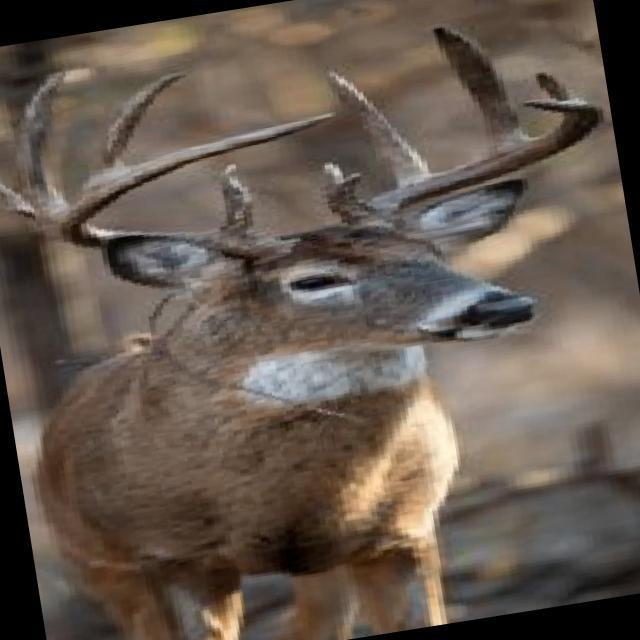L-F: (340, 99, 606, 231)
L-G1: (317, 160, 363, 214)
L-G2: (324, 65, 434, 189)
L-G3: (431, 25, 534, 157)
R-G1: (216, 163, 256, 237)
R-G3: (11, 69, 72, 219)
R-G4: (94, 71, 192, 174)
